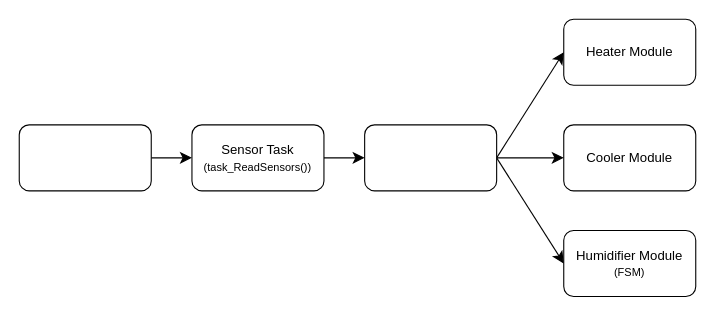
The diagram is 715 pixels wide and 316 high, and some of its shapes have lost their labels. The shapes that lost their labels are listed below. From the top down, each one's centre as x and y in pixels, then its label:
At point 84,157: "DHT21 (Temp & Hump)".
At point 430,157: "Control Logic (LightControl_Update())".
